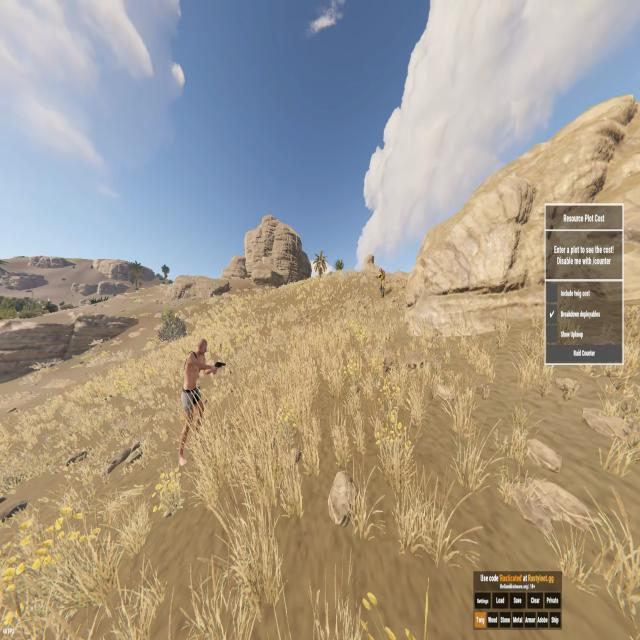Player: (178, 336, 214, 466), (376, 267, 384, 298)
